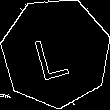L_N: (35, 25, 77, 81)
